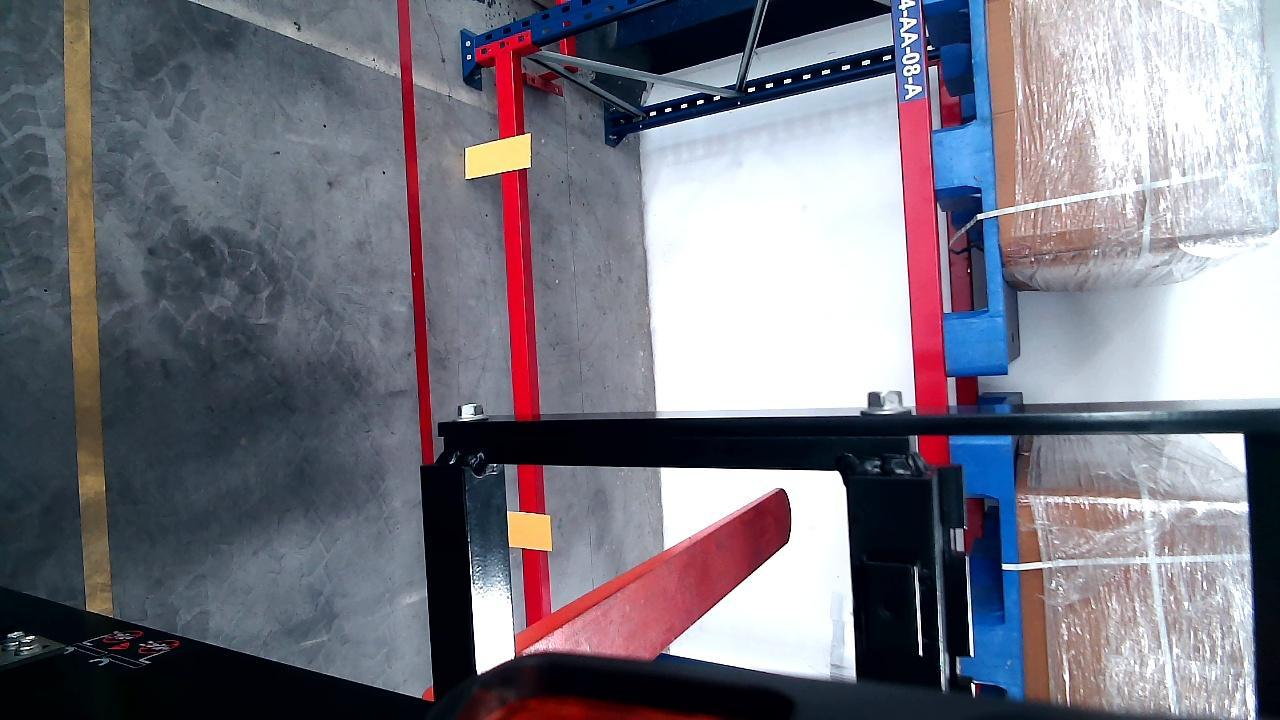red_line: (397, 0, 435, 443)
yellow_line: (65, 0, 109, 620)
